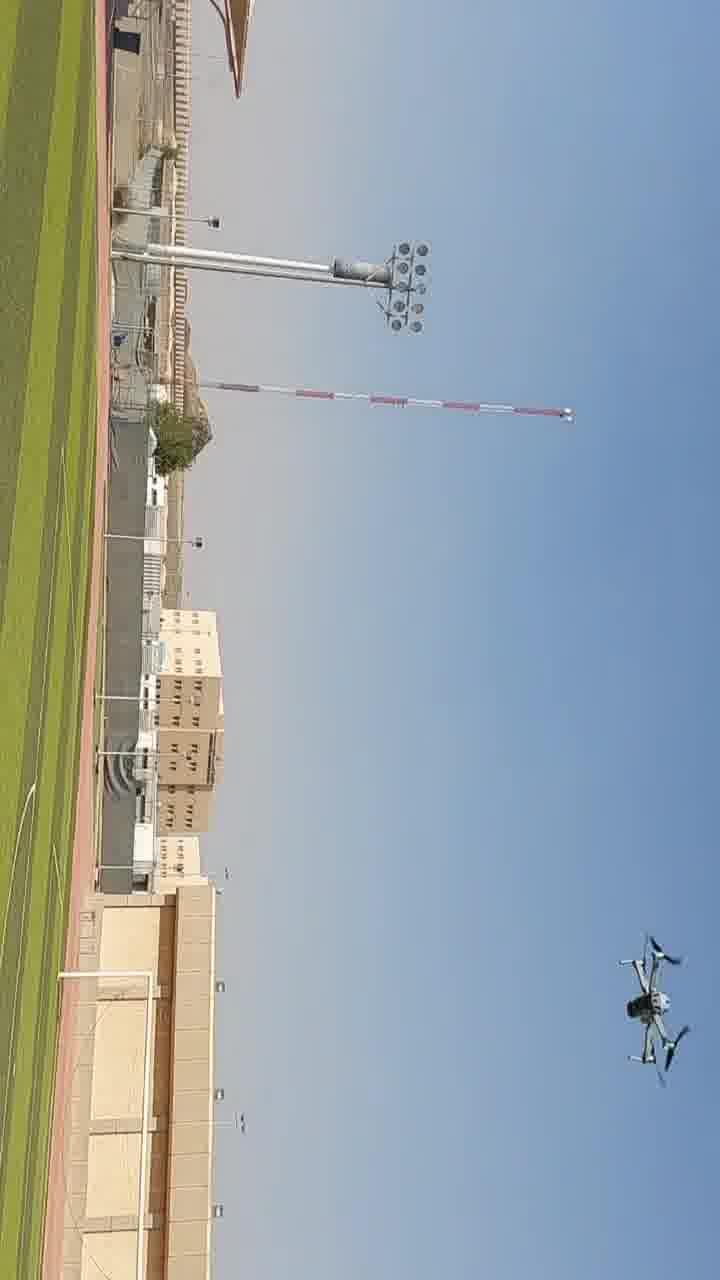drone: (521, 60, 614, 203)
